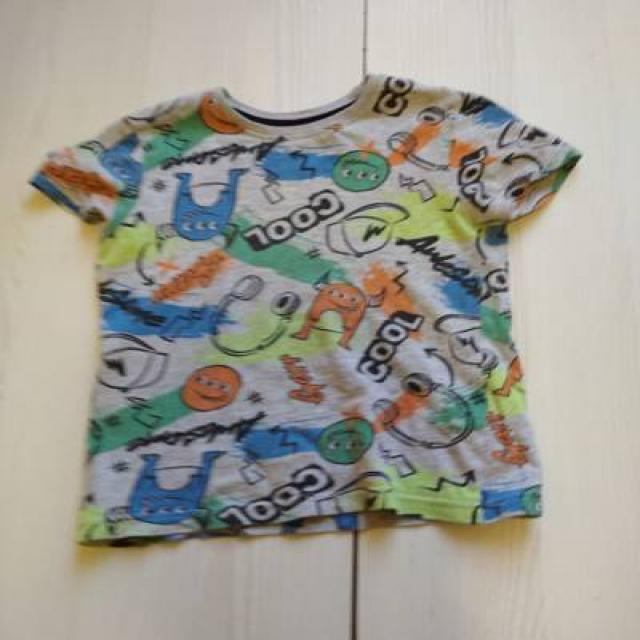Clothes -Biodegradable-: (24, 69, 578, 541)
